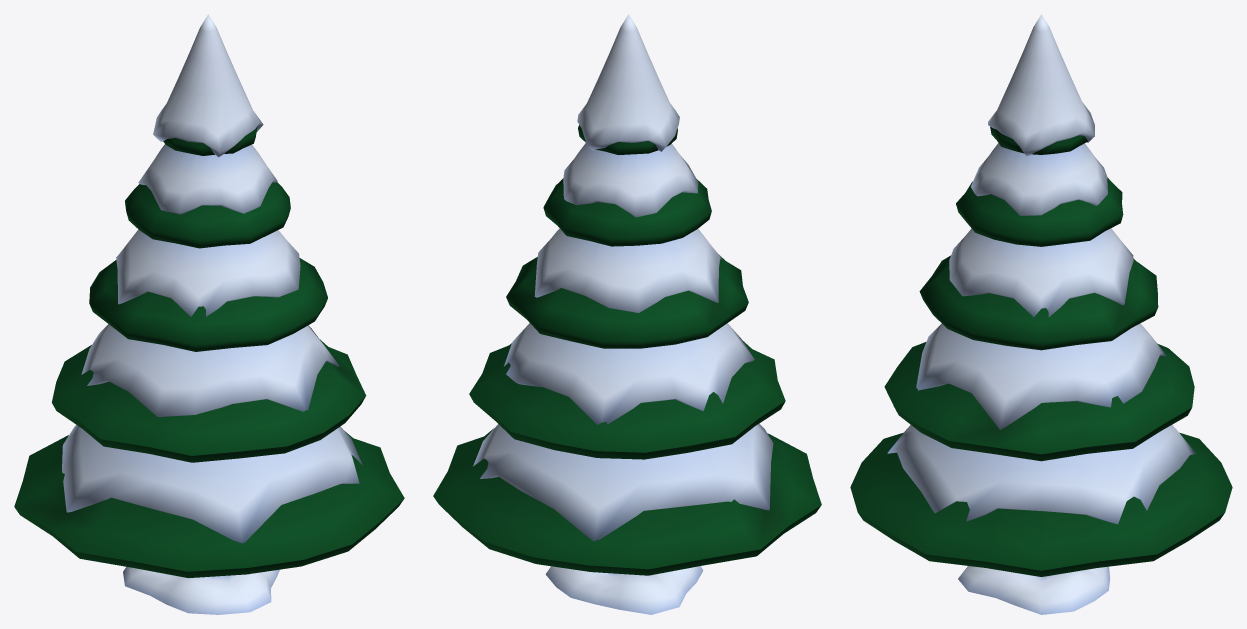
Rendered from Tree_SnowyPine.fbx.
3 renders of one model, left to right at view 1: azimuth 30°, elevation 25°; view 2: azimuth 150°, elevation 25°; view 3: azimuth 270°, elevation 25°, orthographic.
Parts seen in each view (by area): view 1: Canopy, Tree_SnowyPine; view 2: Canopy, Tree_SnowyPine; view 3: Canopy, Tree_SnowyPine.
Part boxes in pixels (left/top/right/bottom): Canopy: left=14, top=14, right=404, bottom=578; Tree_SnowyPine: left=123, top=567, right=279, bottom=614; Canopy: left=433, top=14, right=821, bottom=575; Tree_SnowyPine: left=545, top=566, right=703, bottom=614; Canopy: left=850, top=14, right=1232, bottom=576; Tree_SnowyPine: left=958, top=566, right=1110, bottom=614.
Size of the model in its own units: 2.78 by 4.5 by 2.76.
